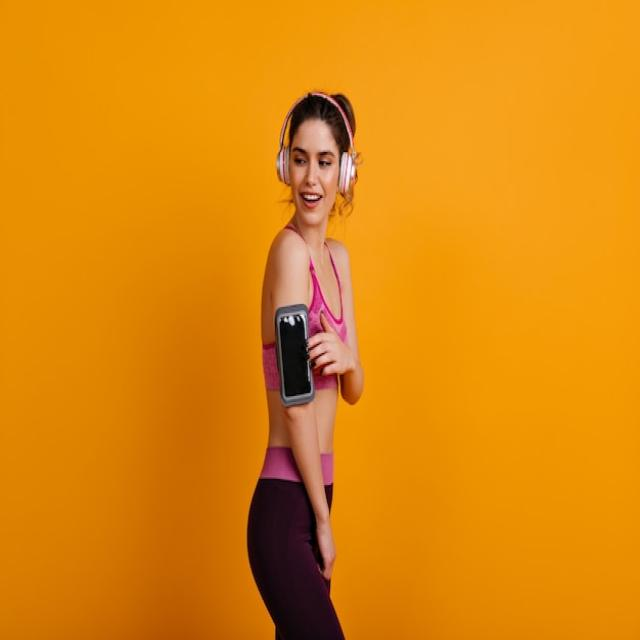Headphone: (276, 91, 357, 196)
